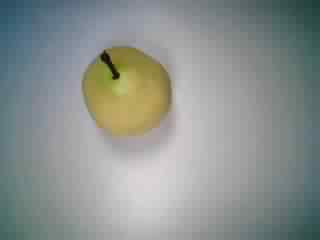pear: (70, 38, 176, 145)
